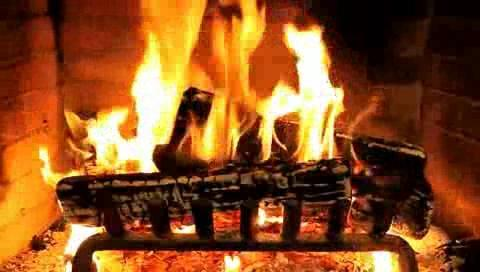fire: (118, 0, 379, 175)
